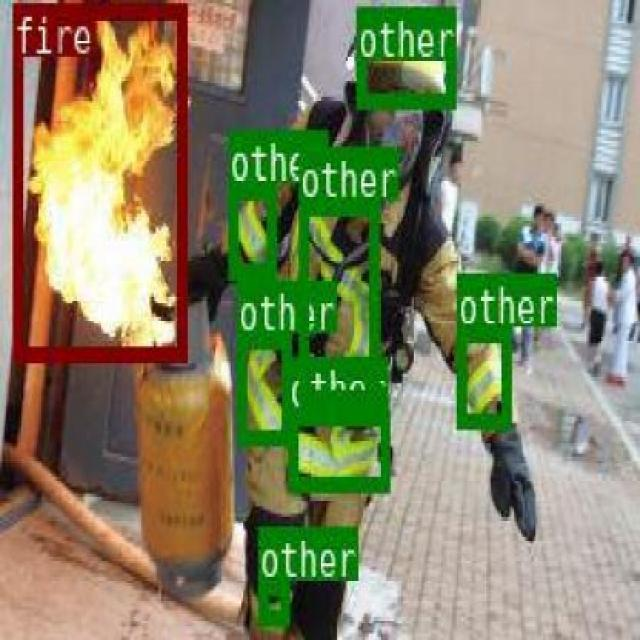Fire: (12, 1, 185, 357)
